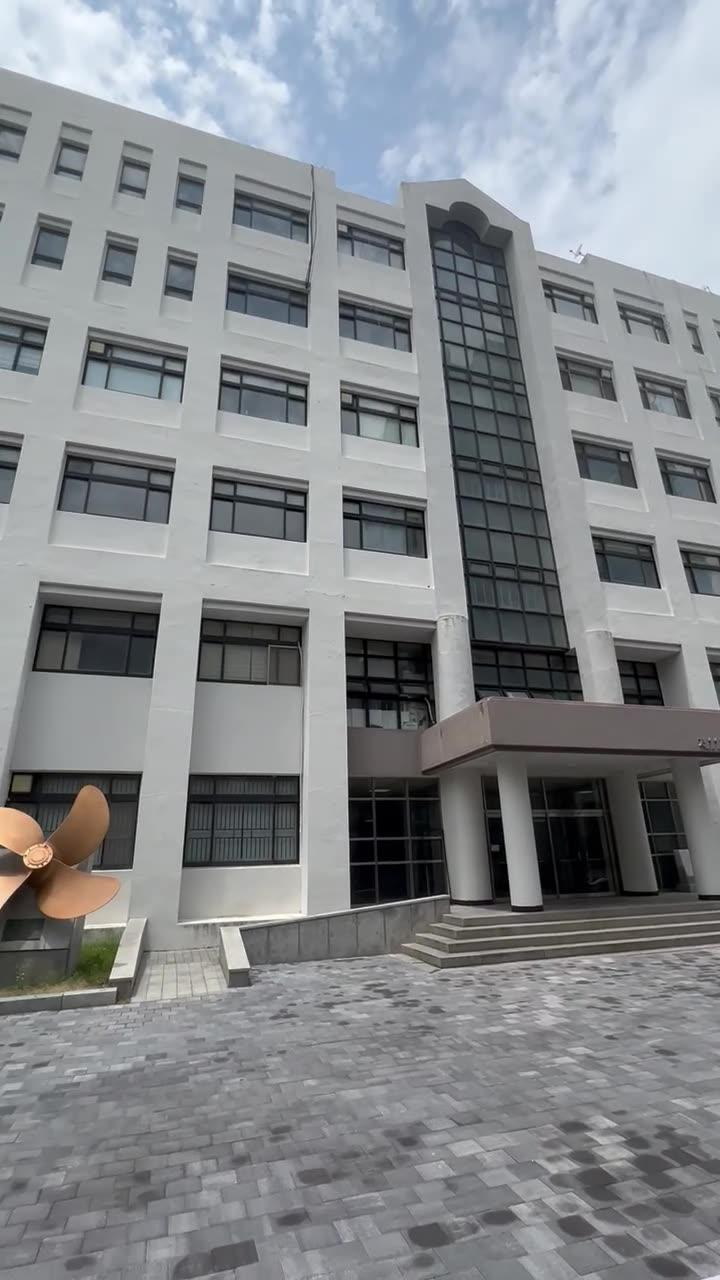building: (14, 84, 718, 938)
